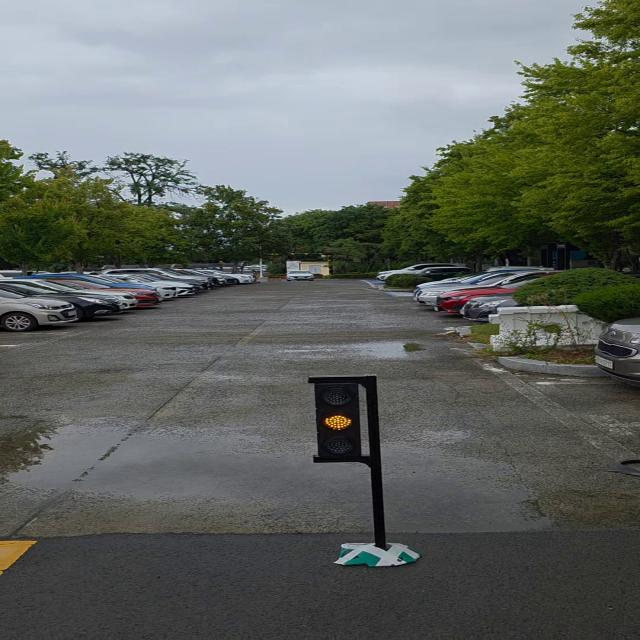yellow: (312, 381, 374, 462)
